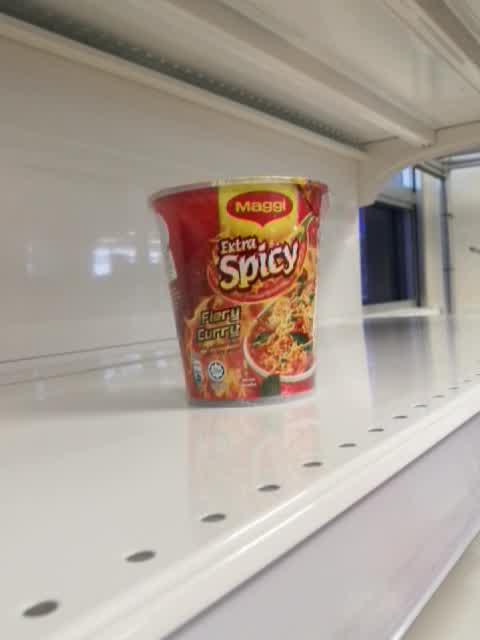maggi: (145, 175, 330, 408)
